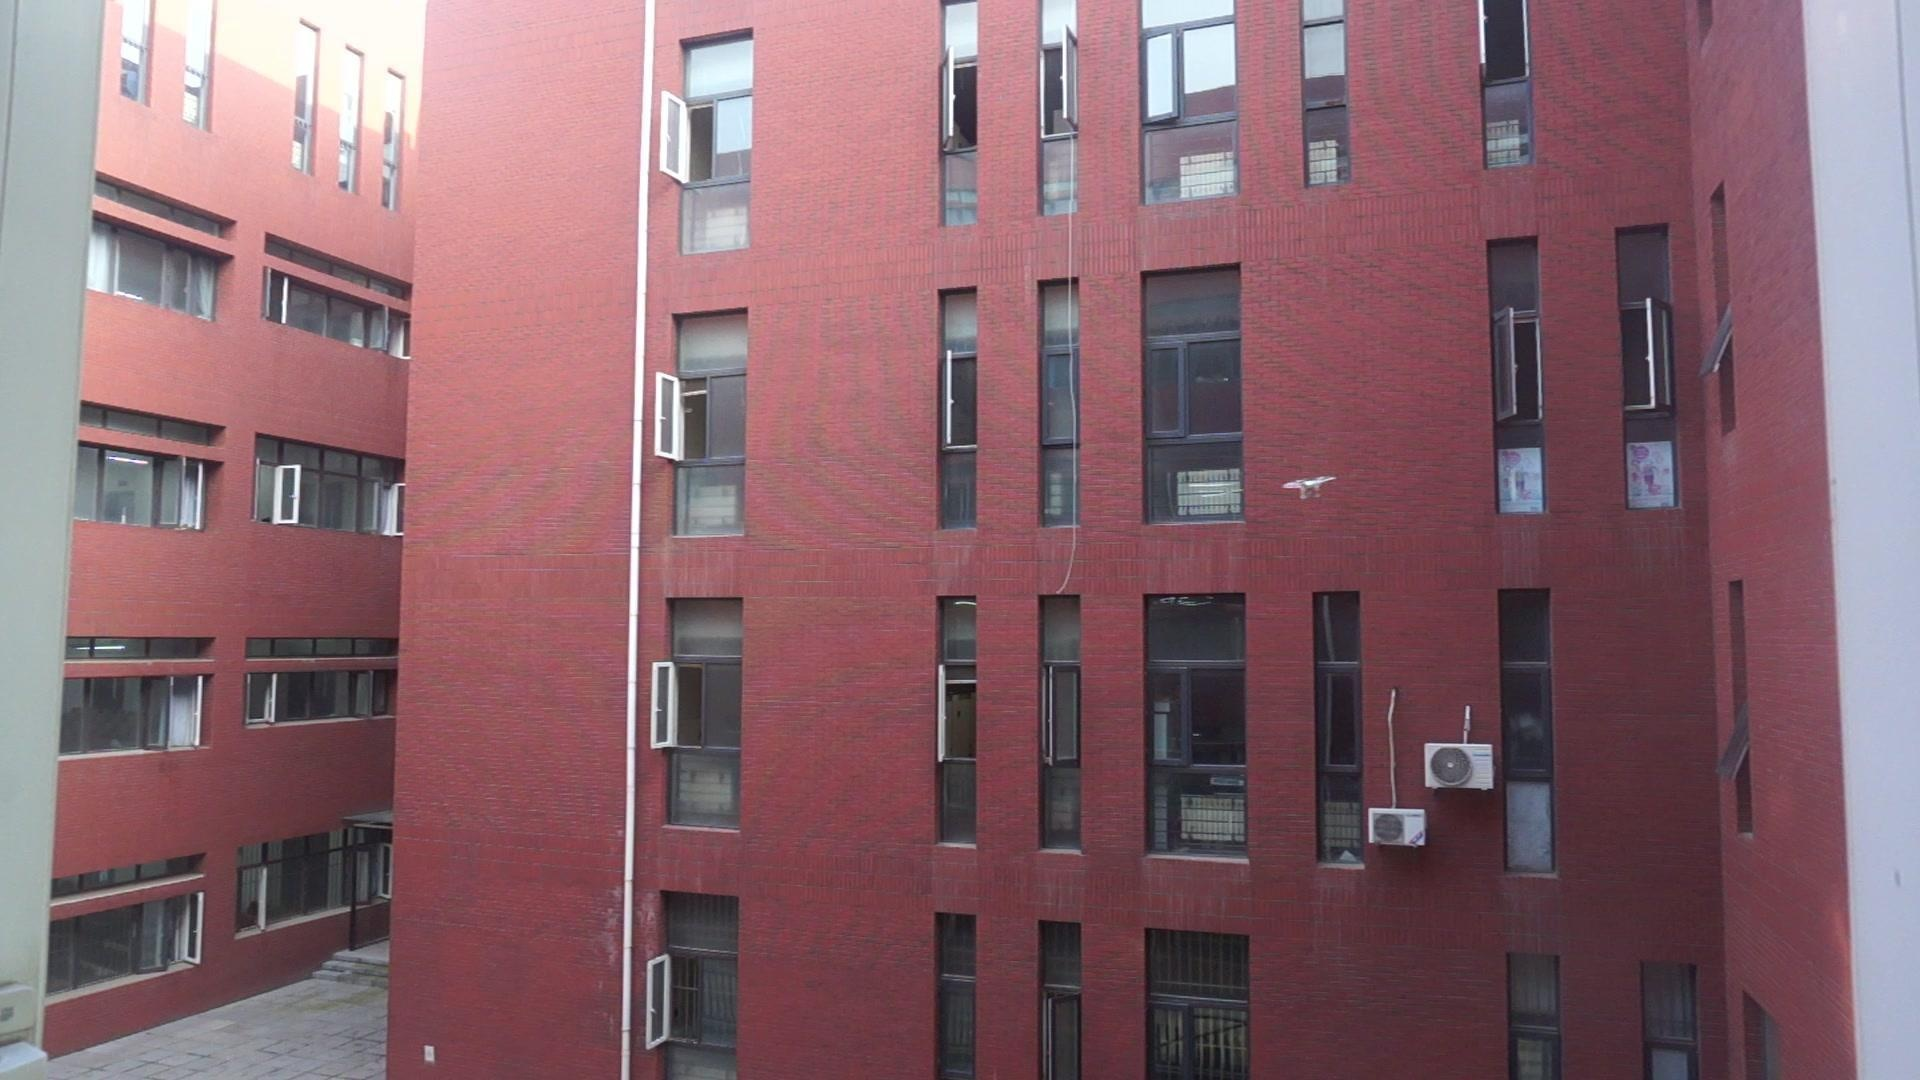UAV: (1282, 477, 1337, 500)
